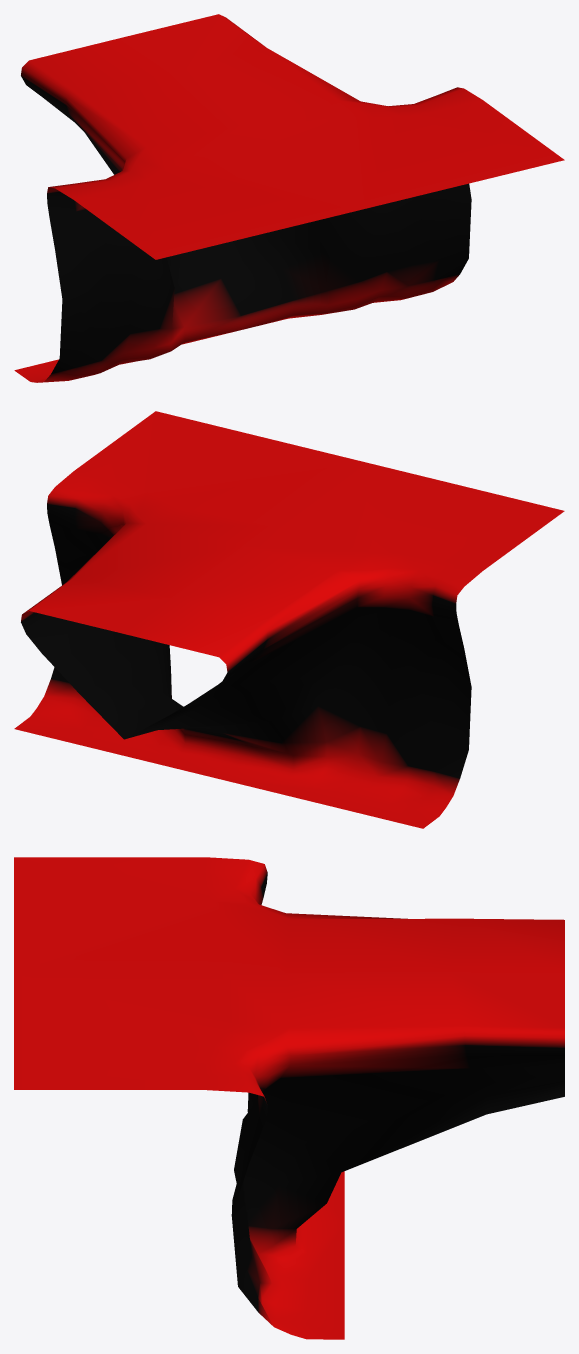
Rendered from CrossingCliff02A 1M Background.fbx.
The picture shows the model from 3 angles, top to bottom: view 1: azimuth 30°, elevation 25°; view 2: azimuth 150°, elevation 25°; view 3: azimuth 270°, elevation 25°; orthographic projection. The views are drawn at different scales.
Parts seen in each view (by area): view 1: CrossingCliff02A 1M Background; view 2: CrossingCliff02A 1M Background; view 3: CrossingCliff02A 1M Background.
Part boxes in pixels (<box>): CrossingCliff02A 1M Background: <box>14,14,564,382</box>; CrossingCliff02A 1M Background: <box>14,411,564,828</box>; CrossingCliff02A 1M Background: <box>14,857,564,1339</box>.
Bounding box in the file's own units: 2 × 1.01 × 2.
